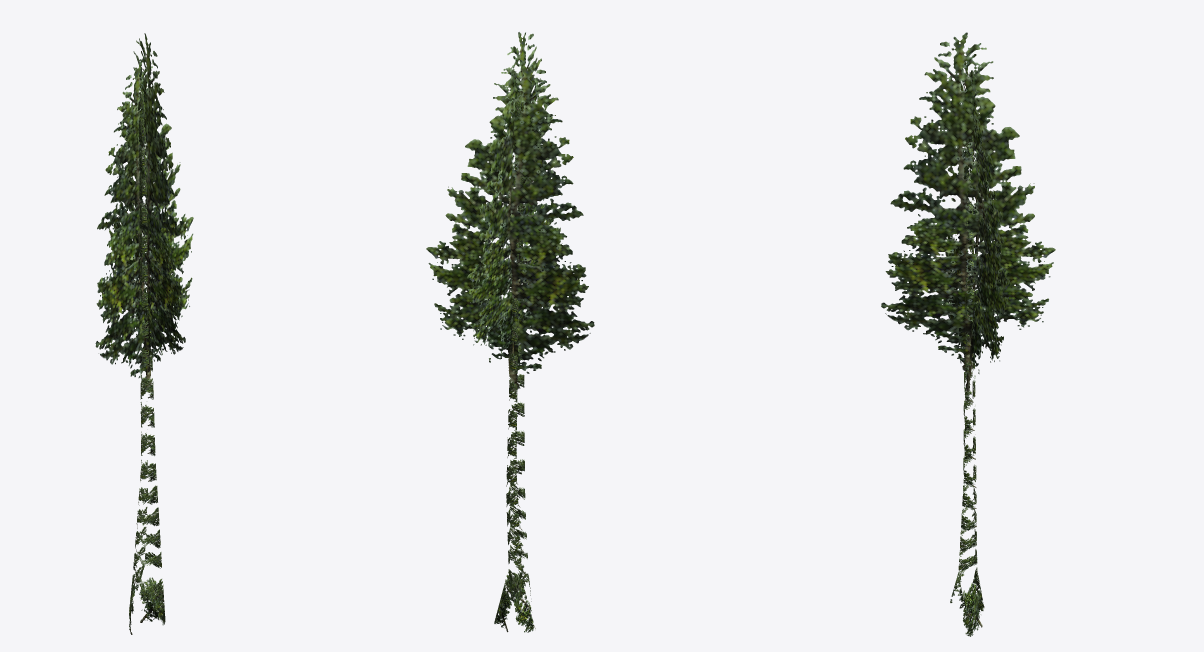
The model's file is psx_tree4.glb.
The picture shows the model from 3 angles, left to right: view 1: azimuth 30°, elevation 25°; view 2: azimuth 150°, elevation 25°; view 3: azimuth 270°, elevation 25°; orthographic projection.
Visible parts, largest first — view 1: _MeshInstance3D_11; view 2: _MeshInstance3D_11; view 3: _MeshInstance3D_11.
Boxes of the visible parts, box(x1,y1,x2,y2) form: _MeshInstance3D_11: box(95, 33, 193, 634); _MeshInstance3D_11: box(426, 32, 594, 632); _MeshInstance3D_11: box(881, 32, 1055, 636).
Size of the model in its own units: 19.65 by 34.21 by 22.36.
Materials: 1 (1 with a texture image).
